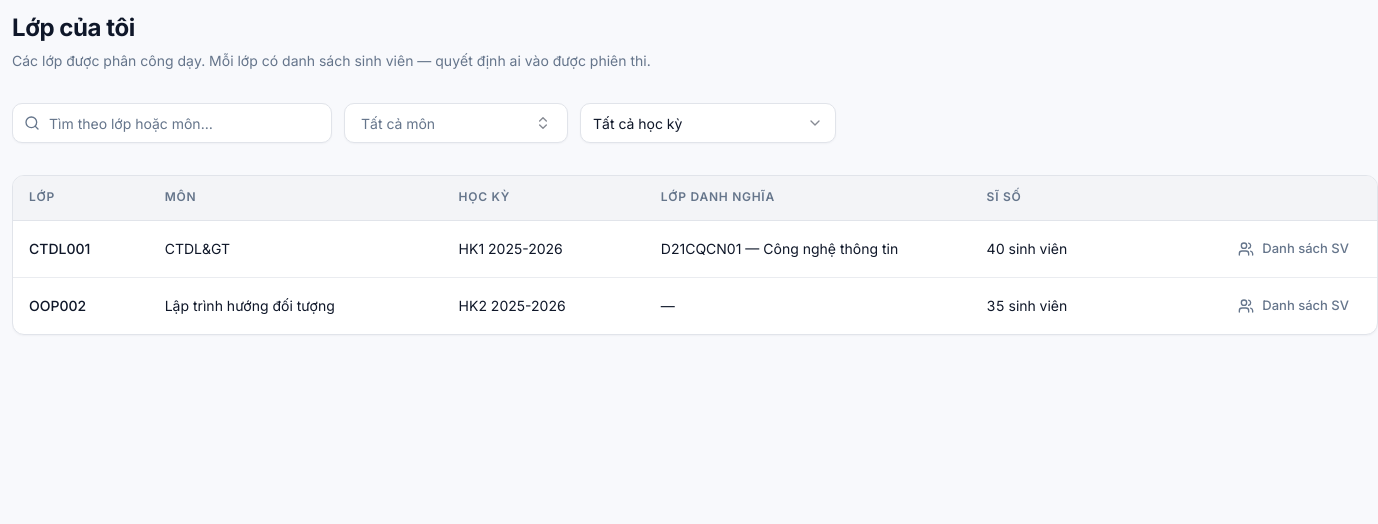
Test: TeacherClassesPage › empty state khi không khớp bộ lọc
The width and height of the screenshot is (1378, 524).
Type "khong-co-lop-nao" into the field labelled "Tìm theo lớp hoặc môn". click: {"x": 172, "y": 123}
box: left=12, top=103, right=332, bottom=143
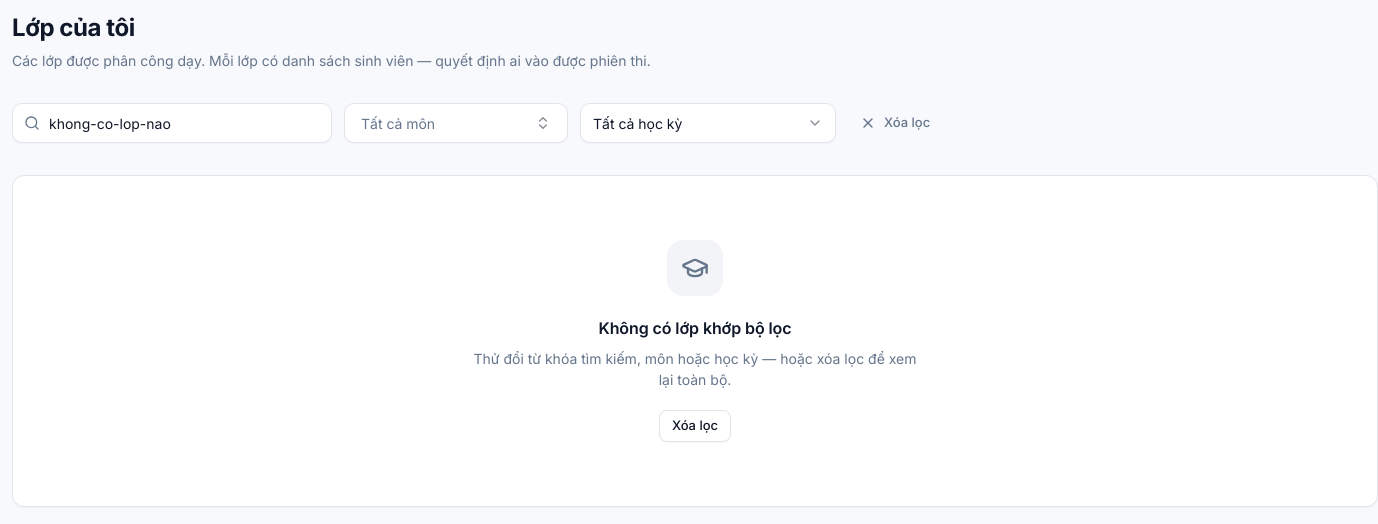
Expected: the text "Không có lớp khớp bộ lọc" is shown, left=598, top=318, right=792, bottom=338
Expected: the 1st button "Xóa lọc" is shown, left=848, top=107, right=942, bottom=139
